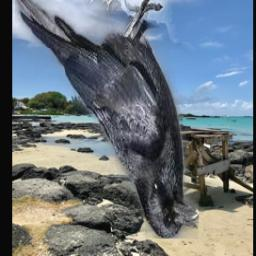Crow: (16, 0, 200, 240)
